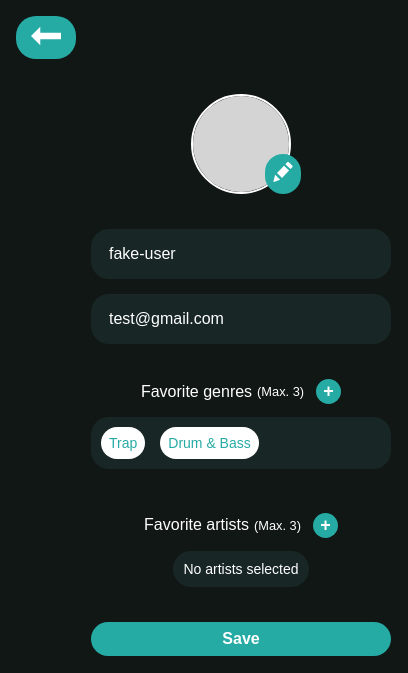
EditProfileComponent › Affichage des genres pré-sélectionnés › devrait pouvoir déselectionner un category au clique
Expected: the number of elements with test id "expandable-list" is 2, [141,379,341,404]; [144,513,338,538]
Expected: the number of elements with test id "edit-profile-selected-genre-text" is 2, [109,435,137,451]; [168,435,251,451]
Click the button with test id "expandable-icon-button" in the row of "Favorite genres".
click(328, 392)  # box [316,379,341,404]
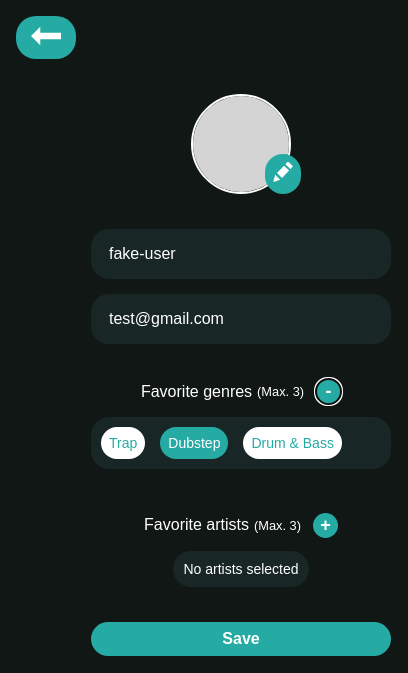
Click the element with test id "edit-profile-select-genre" showing "Trap".
click(123, 443)  # box [101,427,145,459]
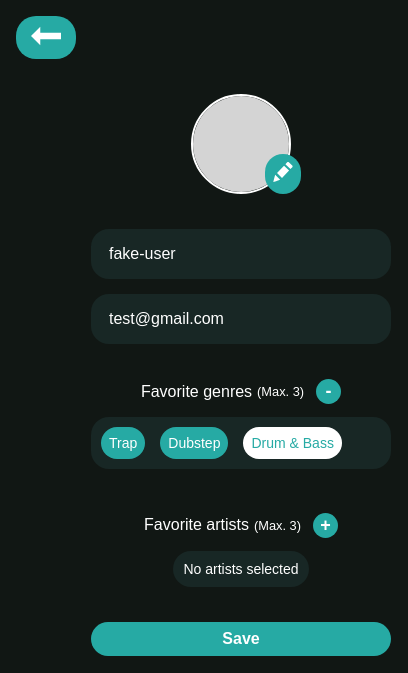
Expected: the element with test id "edit-profile-select-genre" has class "favorites-card", [101,427,145,459]
Click the button with test id "expandable-icon-button" showing "-".
click(328, 392)  # box [316,379,341,404]
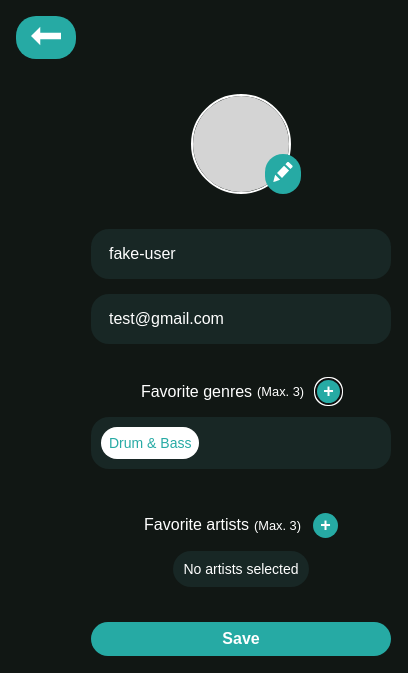
Expected: the number of elements with test id "edit-profile-selected-genre-text" is 1, [109,435,192,451]
Expected: the text with test id "edit-profile-selected-genre-text" reads "Drum & Bass", [109,435,192,451]
